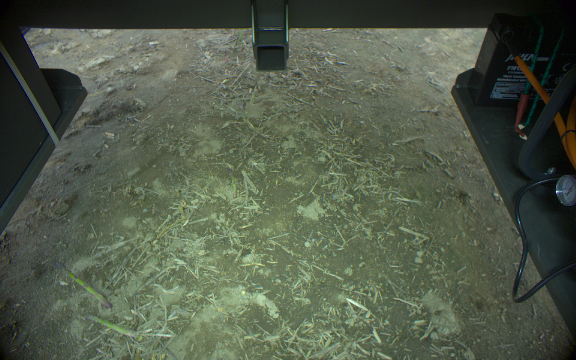aspa: (54, 260, 112, 310), (81, 310, 142, 340), (225, 166, 237, 198)
